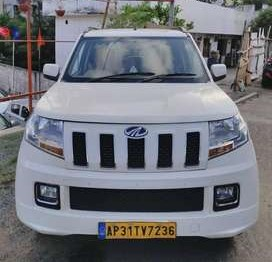AP31TV7236: (98, 221, 176, 239)
